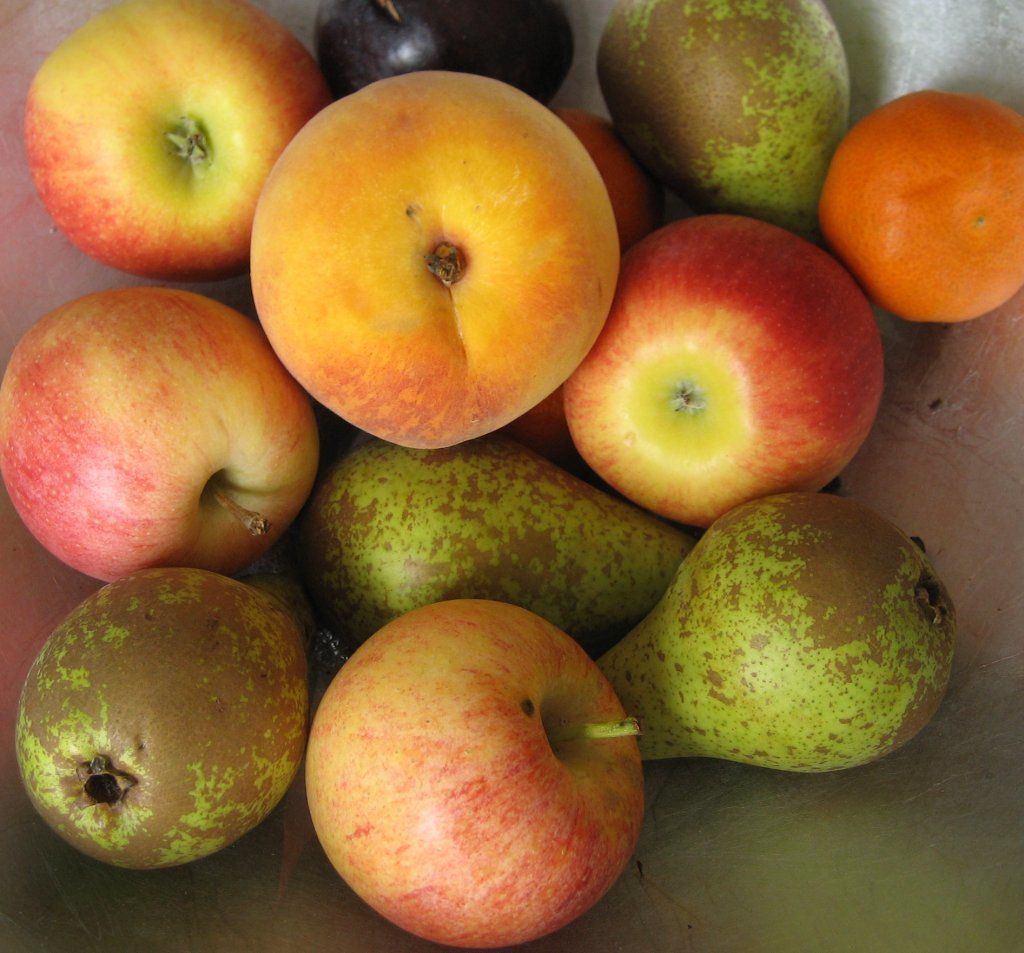Apple: (245, 69, 622, 446), (280, 613, 652, 953), (558, 220, 885, 531), (0, 276, 321, 585), (17, 0, 318, 280), (504, 112, 654, 437)
